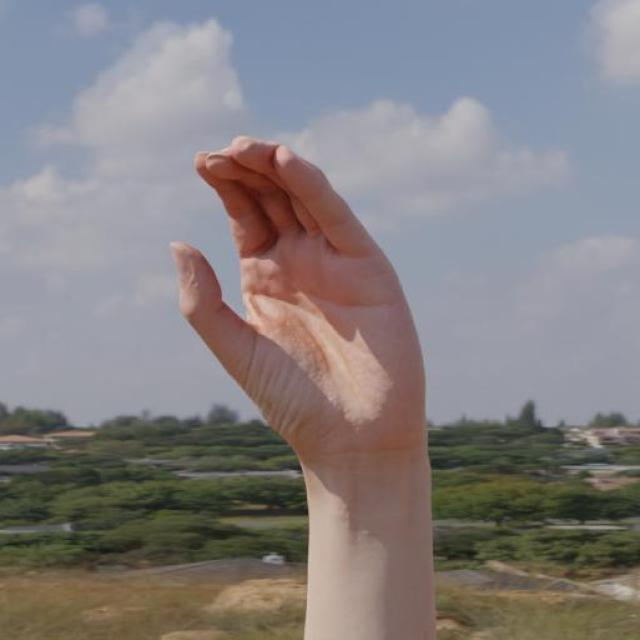C: (162, 129, 440, 500)
